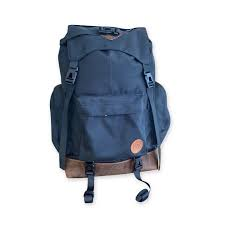bag: (49, 20, 173, 208)
